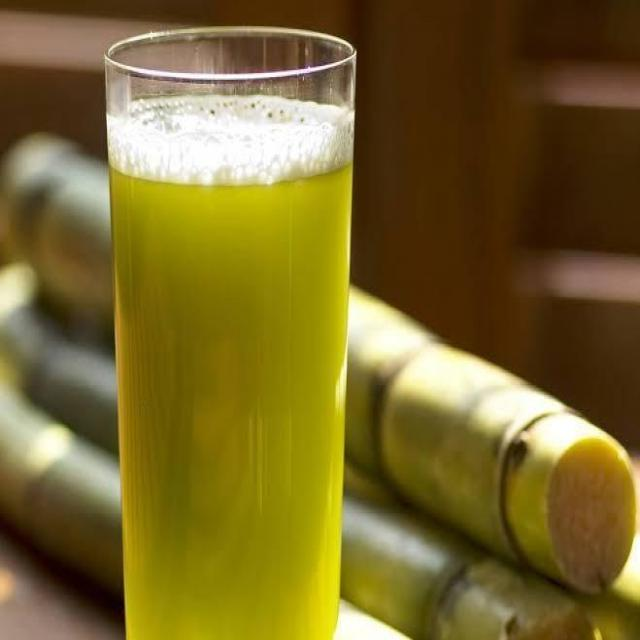glass-normal: (100, 22, 359, 639)
